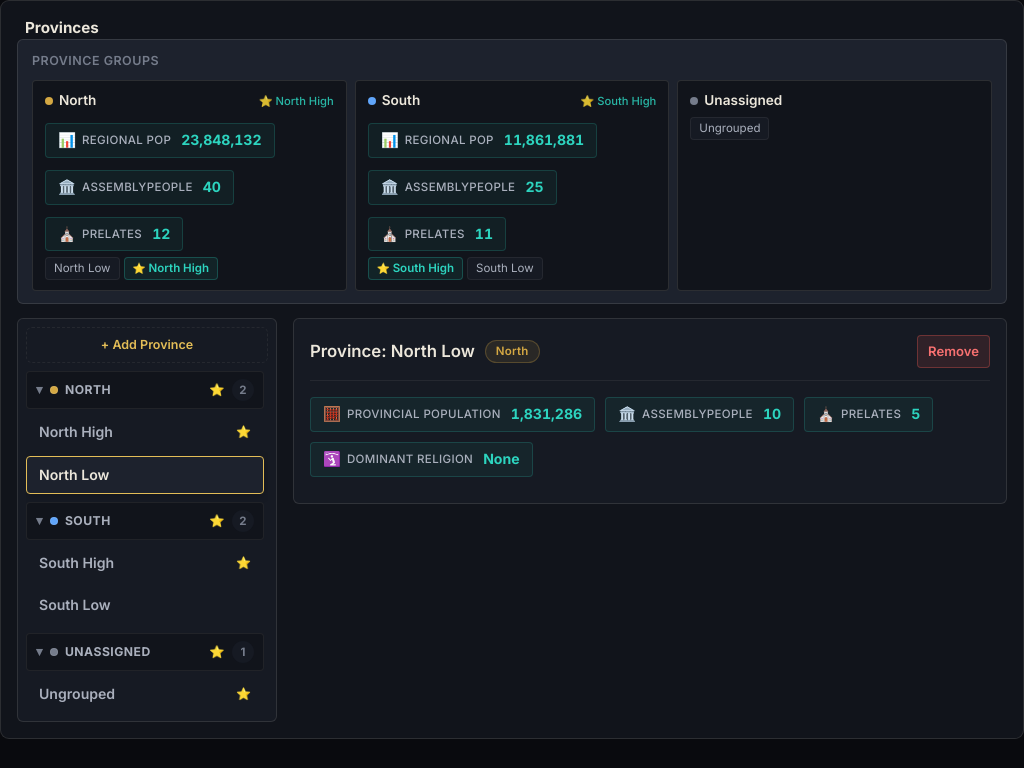
it: ArraySection province sidebar ordering › collapses province groups in the sidebar
Click the button with class "sidebar-group-header" showing "▾ North ⭐ 2": (145, 390) [26,371,264,409]
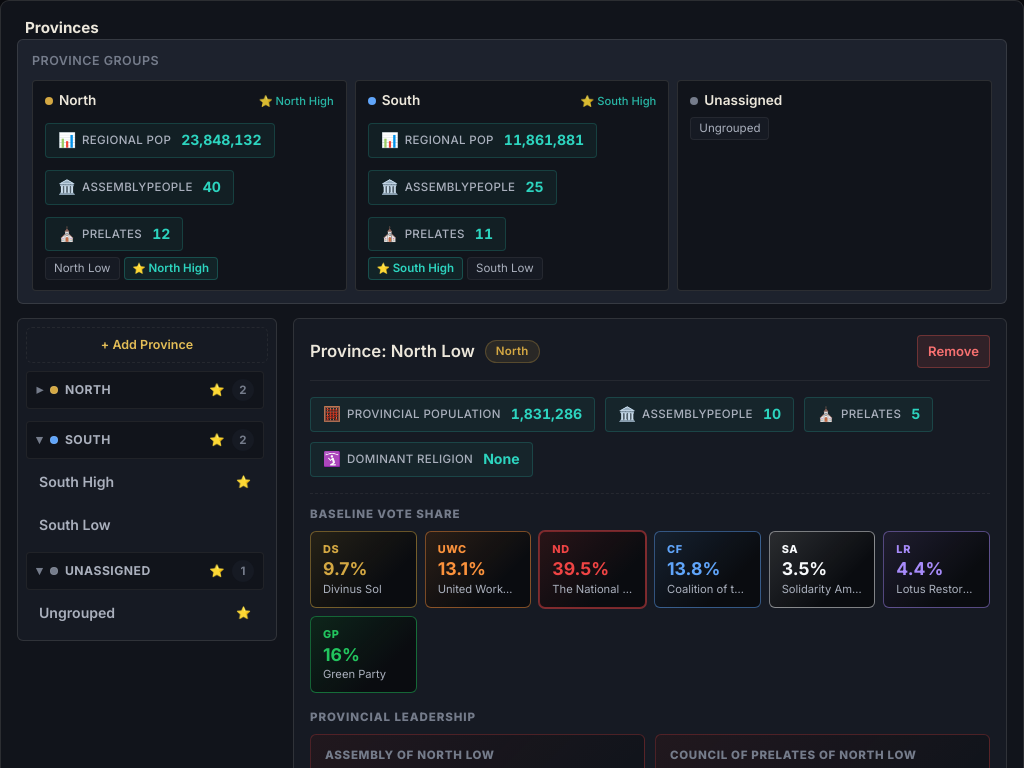
Now the text "North High ⭐ North Low" is gone
